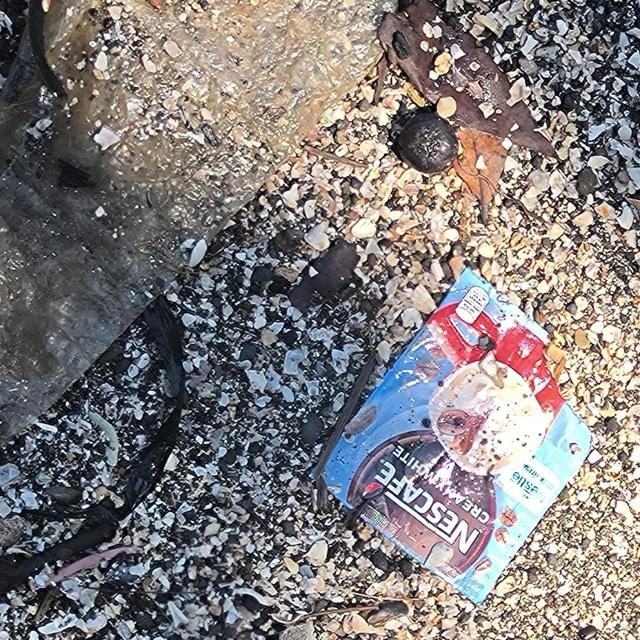plastic_waste: (311, 268, 590, 604)
